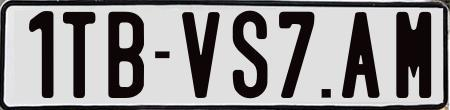1: (27, 10, 57, 101)
7: (277, 11, 313, 102)
A: (339, 11, 381, 102)
B: (106, 12, 142, 101)
M: (393, 11, 434, 99)
S: (231, 10, 270, 98)
T: (61, 11, 93, 103)
V: (180, 9, 220, 99)
